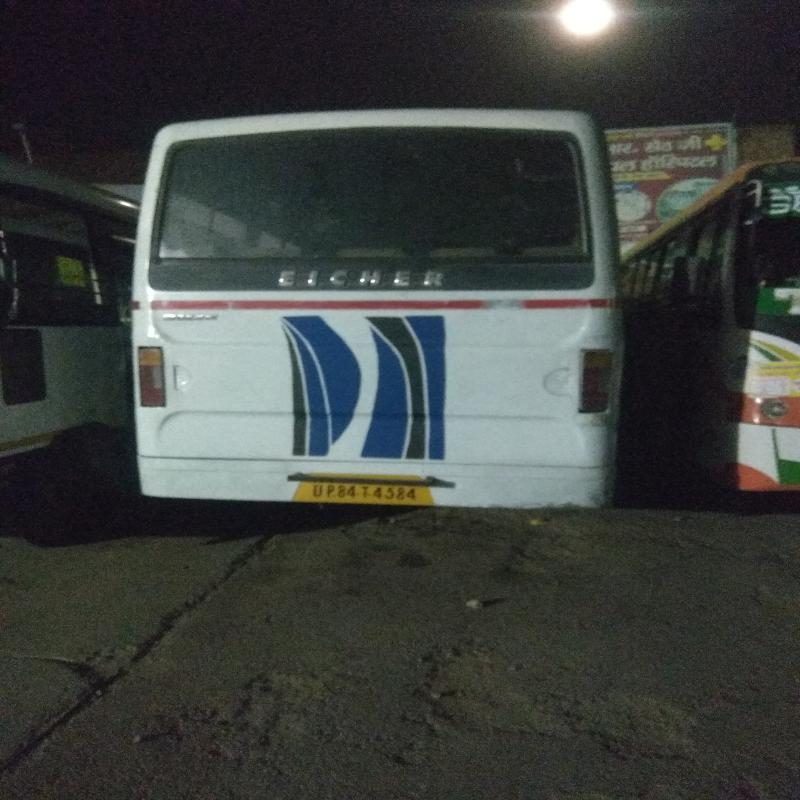bus: (144, 110, 614, 530)
